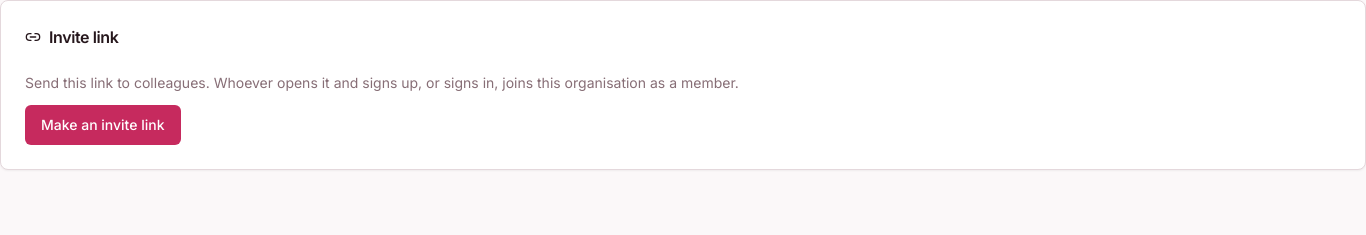
Test: the invite link in Team settings › is made, replaced and turned off by an owner or admin
Click the button "Make an invite link": (103,125) left=25, top=105, right=180, bottom=145
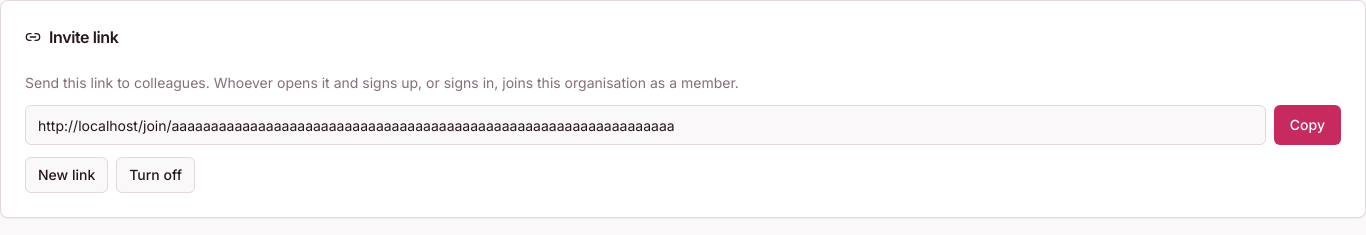
Click the button "New link": (67,175) left=25, top=157, right=108, bottom=193
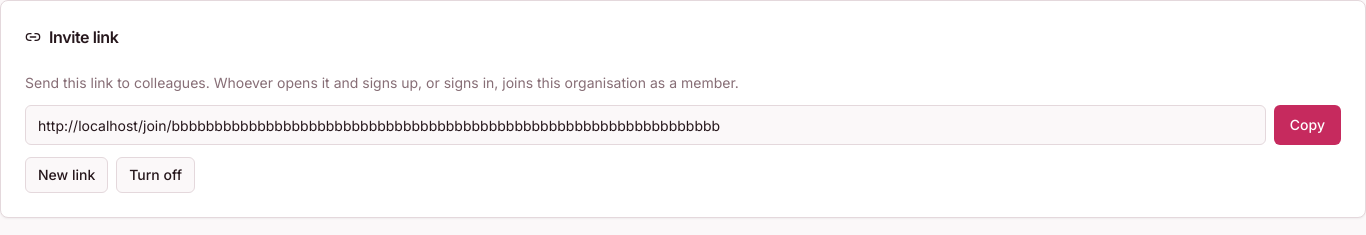
Click the button "Turn off": (156,175) left=116, top=157, right=195, bottom=193
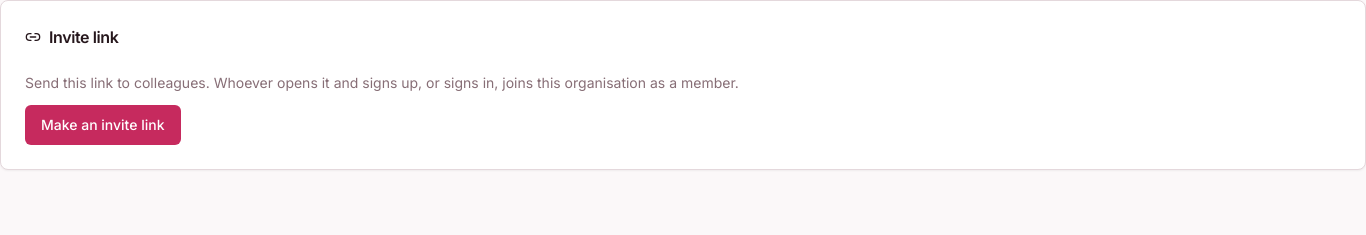
Check: the button "Make an invite link" is shown, box left=25, top=105, right=180, bottom=145
